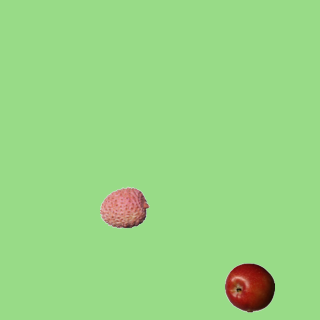Apple Braeburn: (224, 262, 274, 312)
Lychee: (99, 182, 149, 232)
